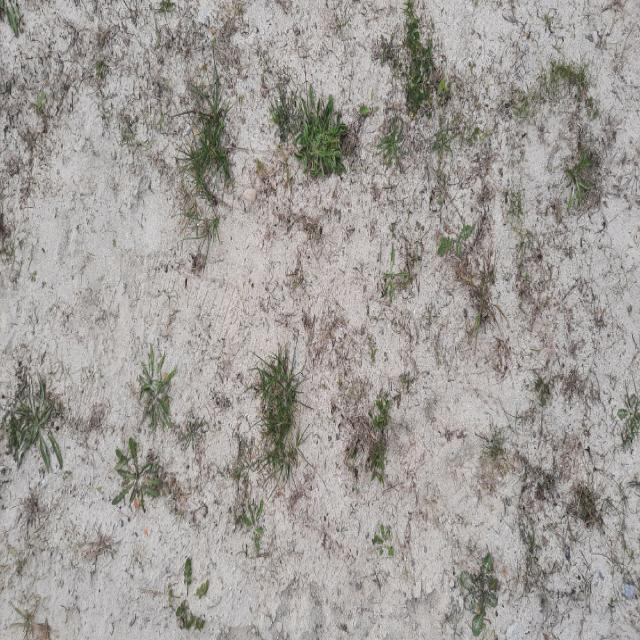grass: (180, 70, 233, 211), (253, 347, 304, 482), (0, 364, 63, 469), (294, 85, 348, 177), (404, 0, 434, 115)
white-sand: (0, 0, 639, 638)
